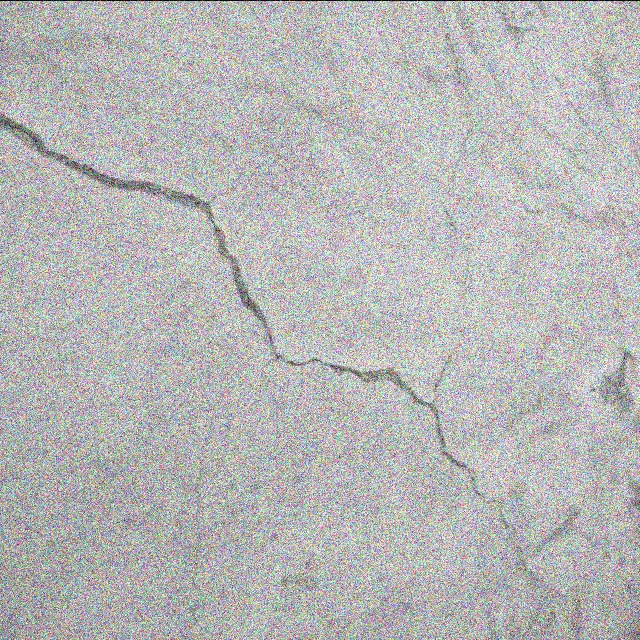SurfaceCrack: (0, 28, 639, 632)
